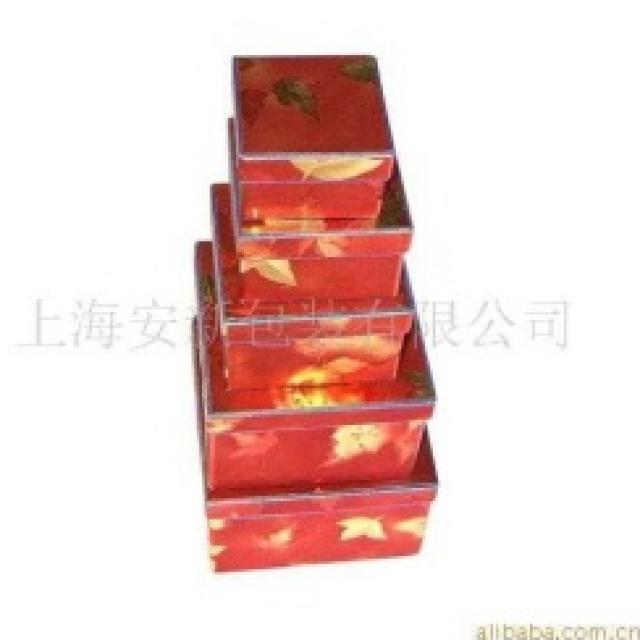box: (177, 238, 445, 472), (190, 318, 440, 563), (201, 183, 418, 390), (225, 133, 428, 294), (230, 57, 402, 217)
